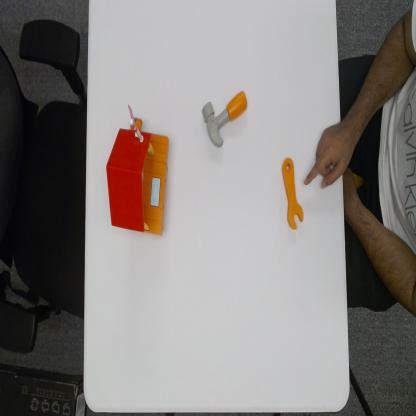Hammer: (200, 90, 250, 149)
Hand: (303, 116, 342, 192)
House: (104, 103, 171, 238)
Screwdriver: (280, 154, 305, 232)
